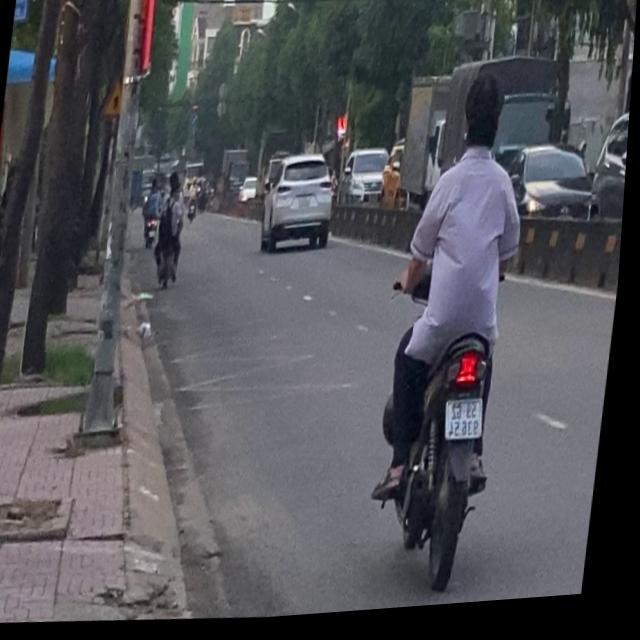licenseplate: (366, 63, 549, 606)
motorcyclist: (460, 70, 514, 165)
nohelmet: (451, 403, 491, 446)
